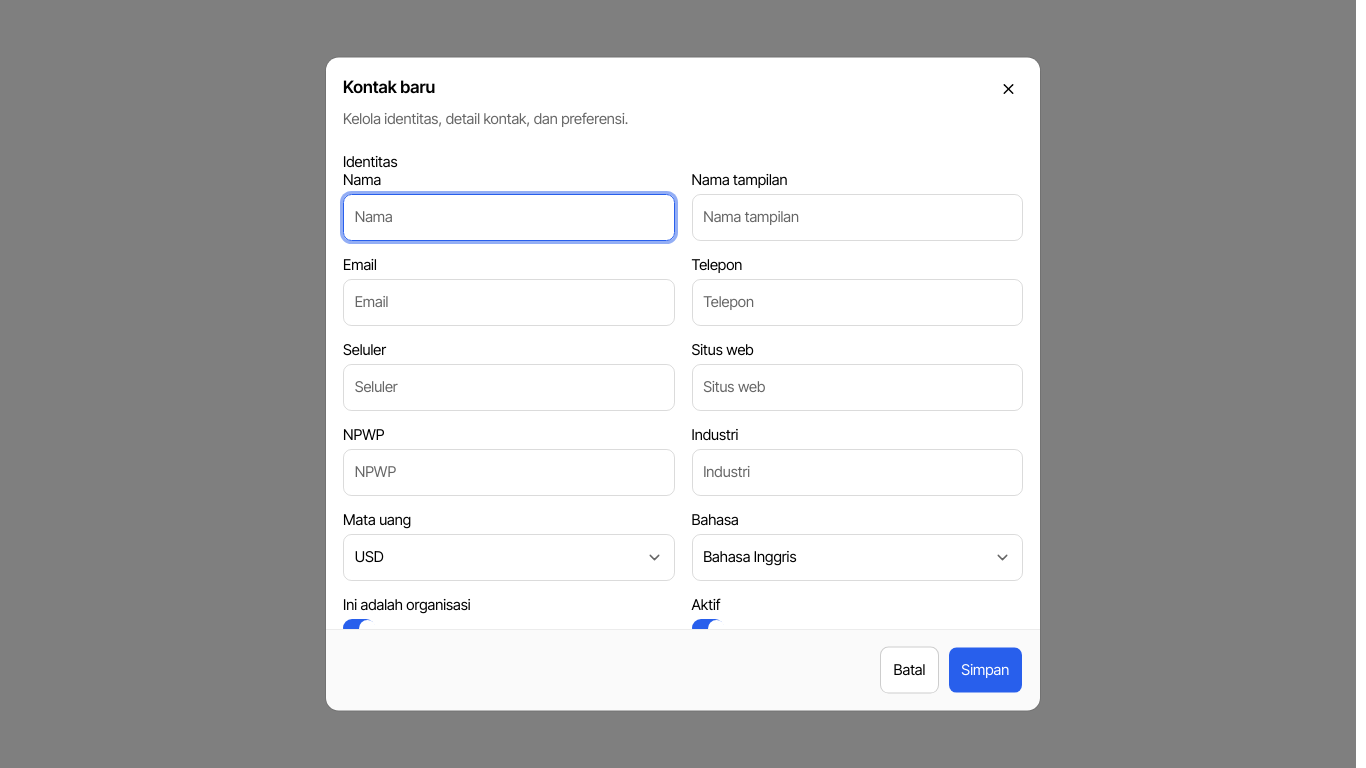
Test case: ContactFormDialog branches › blocks submit when name is empty
This screenshot has width=1366, height=768.
Expected: the heading "Kontak baru" is shown, [343,75,435,100]
Click the button "Simpan" at [985, 670], box [948,647,1023,693]
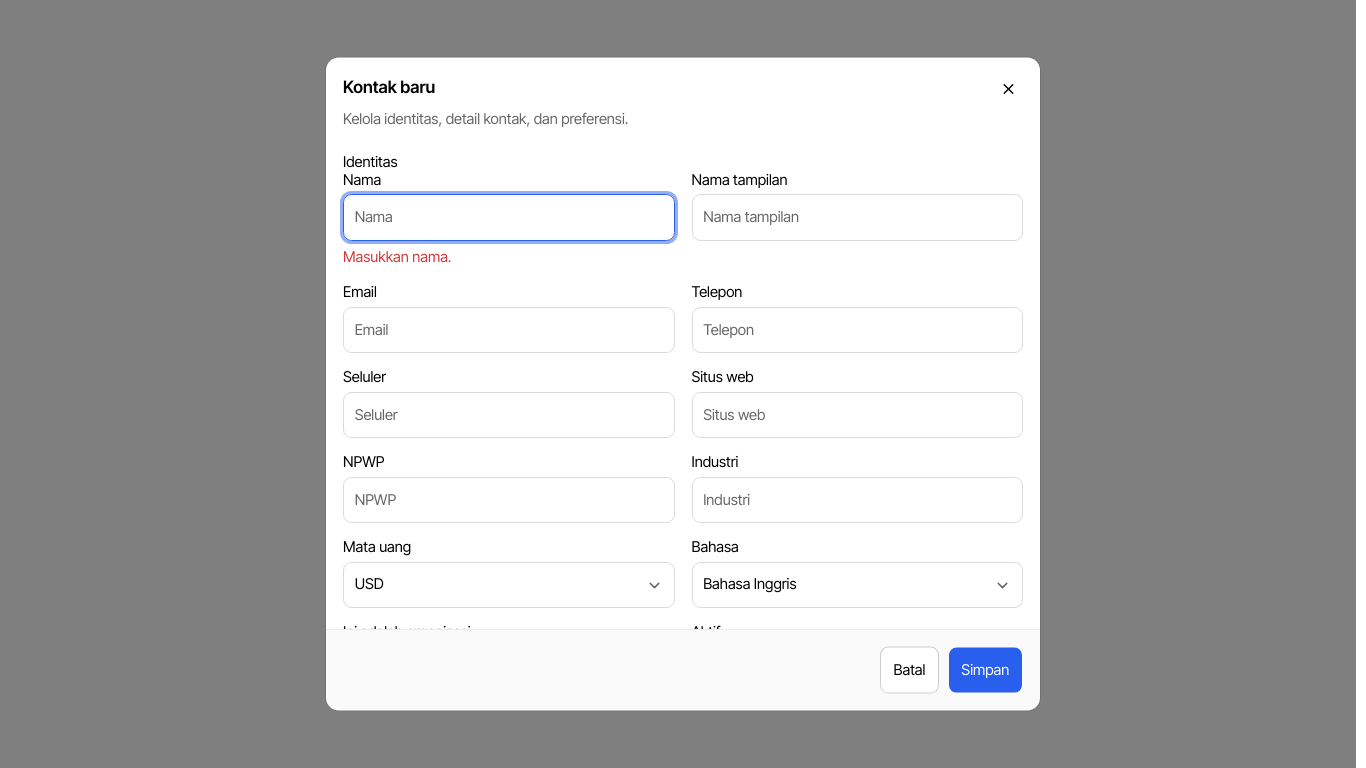
Result: the text "Masukkan nama." is shown at [343,248,451,266]
